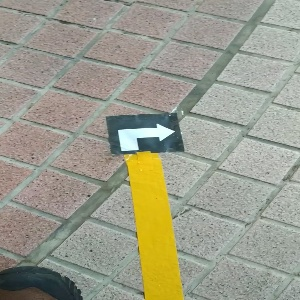right: (106, 112, 183, 152)
